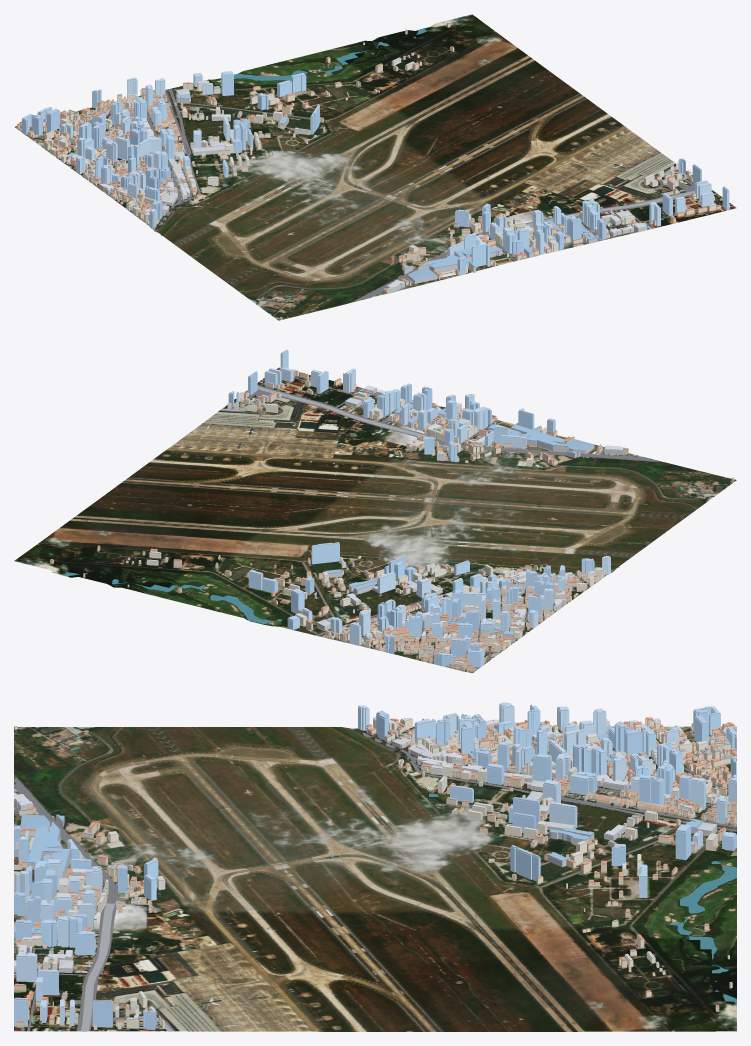
The picture shows the model from 3 angles, top to bottom: view 1: azimuth 30°, elevation 25°; view 2: azimuth 150°, elevation 25°; view 3: azimuth 270°, elevation 25°; orthographic projection. The views are drawn at different scales.
Visible parts, largest first — view 1: TERRAIN, BLDG_MODERN_TOWER, BLDG_TUBE_SHOPHOUSE, BLDG_INDUSTRIAL_PORT, BLDG_APARTMENT, ROAD_METRO, WATER; view 2: TERRAIN, BLDG_MODERN_TOWER, BLDG_TUBE_SHOPHOUSE, BLDG_APARTMENT, BLDG_INDUSTRIAL_PORT, ROAD_METRO, WATER; view 3: TERRAIN, BLDG_MODERN_TOWER, BLDG_TUBE_SHOPHOUSE, BLDG_APARTMENT, BLDG_INDUSTRIAL_PORT, ROAD_METRO, WATER.
Part boxes in pixels (bbox=[...]): TERRAIN: bbox=[14, 14, 736, 320]; BLDG_MODERN_TOWER: bbox=[22, 71, 729, 275]; BLDG_TUBE_SHOPHOUSE: bbox=[17, 22, 729, 319]; BLDG_INDUSTRIAL_PORT: bbox=[68, 89, 647, 293]; BLDG_APARTMENT: bbox=[43, 57, 715, 273]; ROAD_METRO: bbox=[21, 88, 731, 301]; WATER: bbox=[161, 27, 428, 236]; TERRAIN: bbox=[14, 367, 736, 673]; BLDG_MODERN_TOWER: bbox=[228, 349, 610, 667]; BLDG_TUBE_SHOPHOUSE: bbox=[50, 367, 733, 671]; BLDG_APARTMENT: bbox=[146, 369, 604, 667]; BLDG_INDUSTRIAL_PORT: bbox=[316, 385, 628, 637]; ROAD_METRO: bbox=[220, 377, 658, 668]; WATER: bbox=[52, 567, 619, 623]; TERRAIN: bbox=[14, 726, 736, 1031]; BLDG_MODERN_TOWER: bbox=[14, 702, 736, 1029]; BLDG_TUBE_SHOPHOUSE: bbox=[14, 717, 736, 1029]; BLDG_APARTMENT: bbox=[15, 716, 728, 1028]; BLDG_INDUSTRIAL_PORT: bbox=[14, 719, 716, 972]; ROAD_METRO: bbox=[14, 726, 736, 1031]; WATER: bbox=[429, 793, 736, 1005].
Bounding box in the file's own units: 2000 × 103 × 2000.
7 materials, 1 textured.
